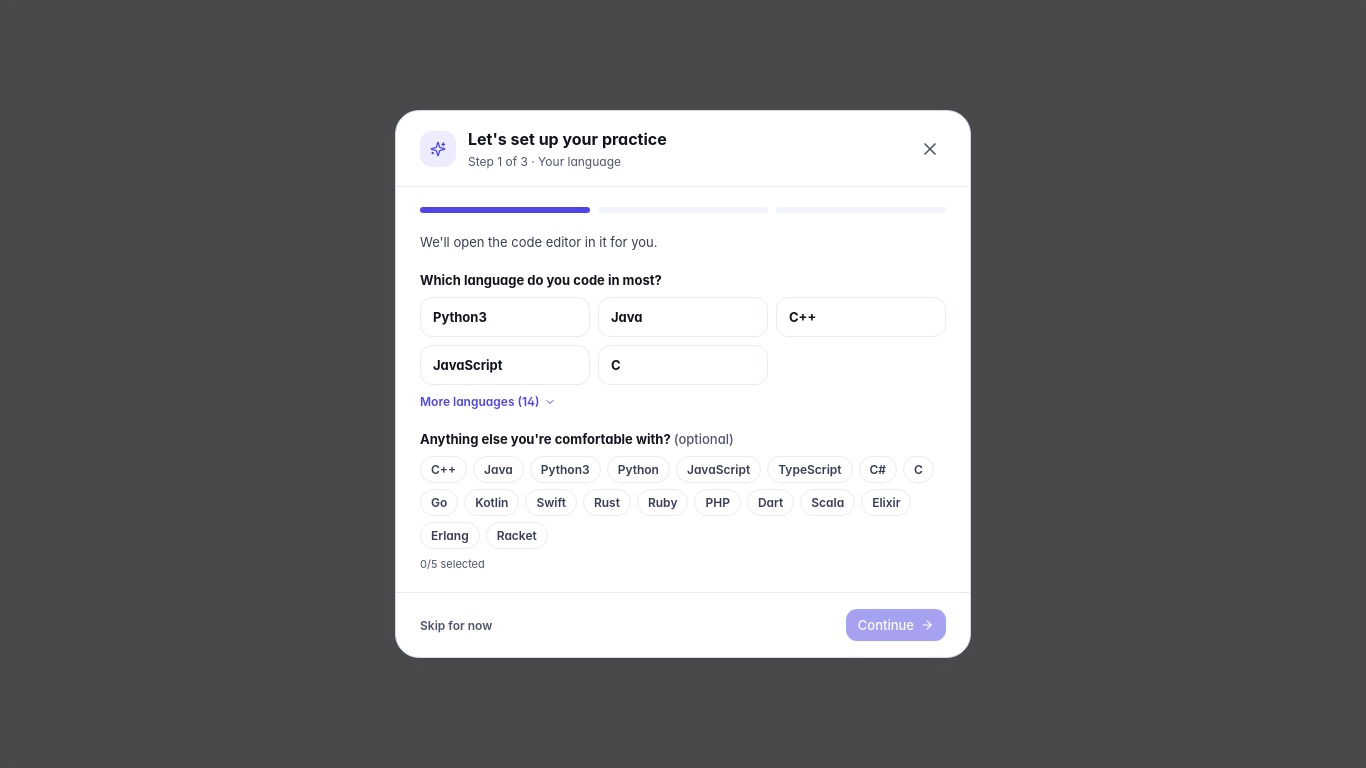
Test: the first-login wizard › will not move on until a main language is chosen
Check: the button "Continue" is disabled, box [846,609,946,641]
Click the radio button labelled "Python3" at x=505, y=317, box [420,297,590,337]
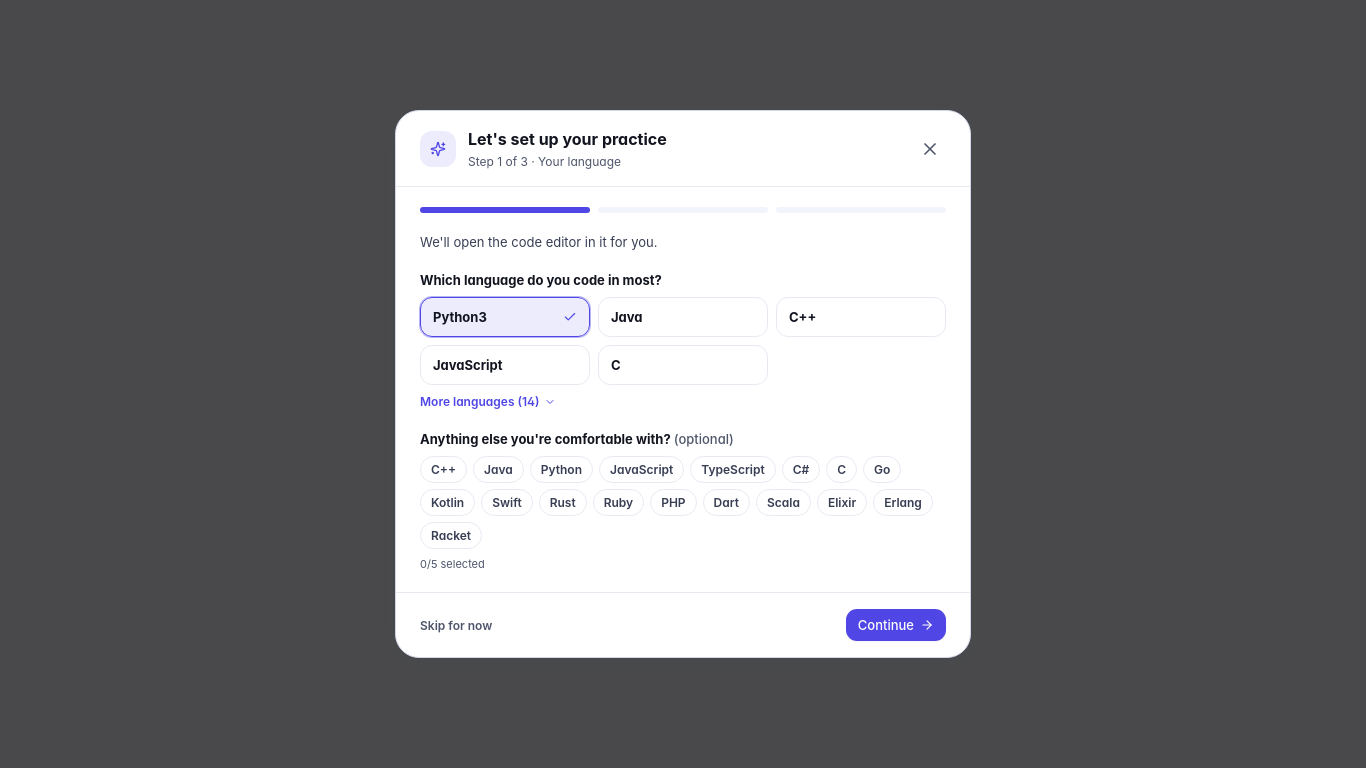
Check: the button "Continue" is enabled, box [846,609,946,641]
